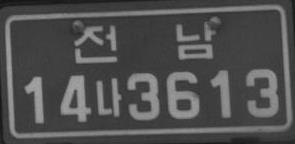1: (207, 68, 237, 119), (21, 75, 49, 125)
3: (245, 67, 280, 119), (126, 71, 161, 122)
4: (59, 73, 92, 123)
6: (164, 70, 201, 121)
나: (94, 76, 122, 118)
전남_D: (72, 19, 217, 64)
